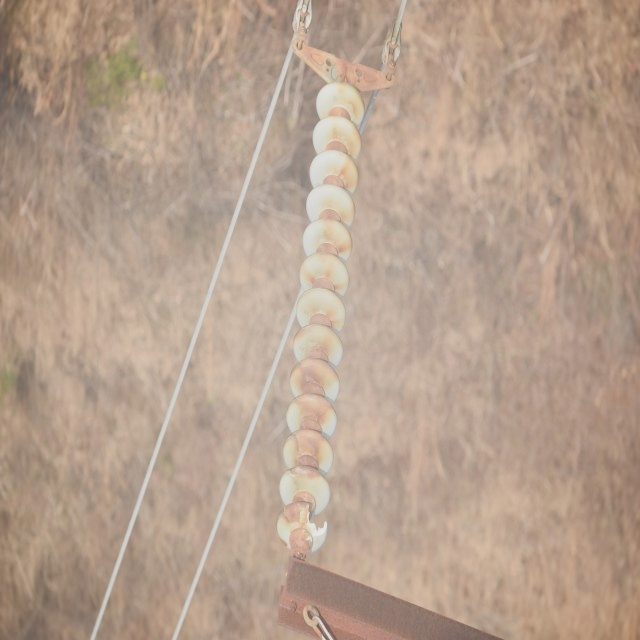broken: (302, 499, 330, 540)
insulator: (276, 82, 365, 555)
